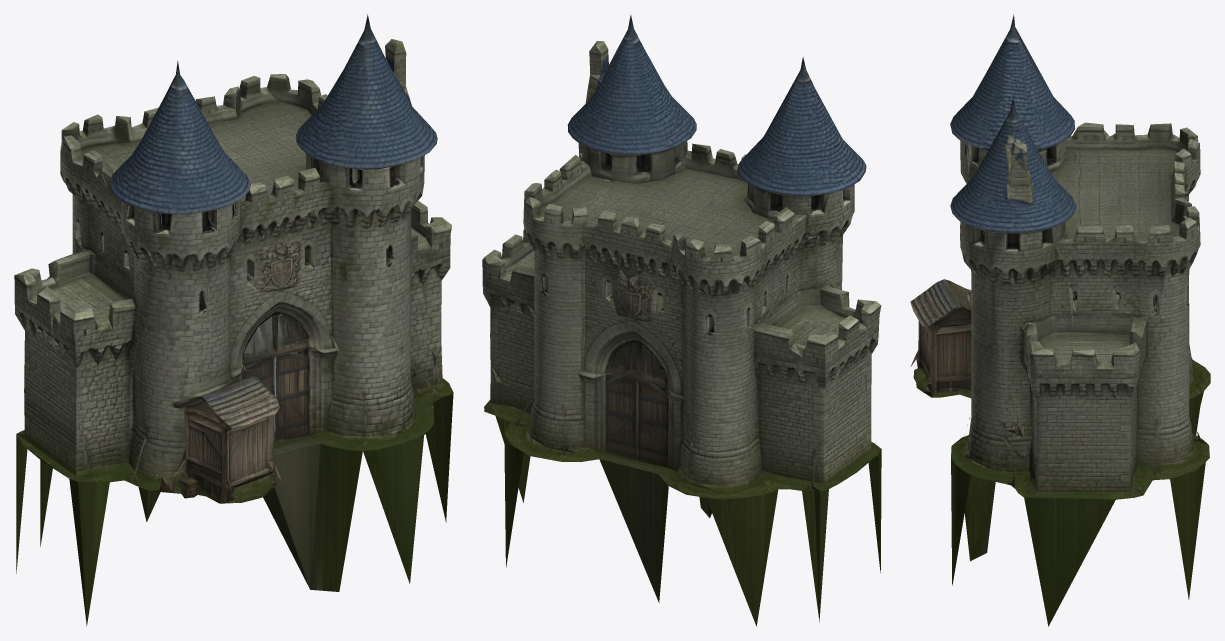
Rendered from wall_gate.glb.
The picture shows the model from 3 angles, left to right: view 1: azimuth 30°, elevation 25°; view 2: azimuth 150°, elevation 25°; view 3: azimuth 270°, elevation 25°; orthographic projection. The views are drawn at different scales.
Parts seen in each view (by area): view 1: wall_gate_export; view 2: wall_gate_export; view 3: wall_gate_export.
Part boxes in pixels (left/top/right/bottom): wall_gate_export: left=14, top=14, right=453, bottom=626; wall_gate_export: left=482, top=14, right=881, bottom=626; wall_gate_export: left=910, top=14, right=1210, bottom=626.
Bounding box in the file's own units: 23 × 31.22 × 17.43.
Materials: 2 (2 with a texture image).
